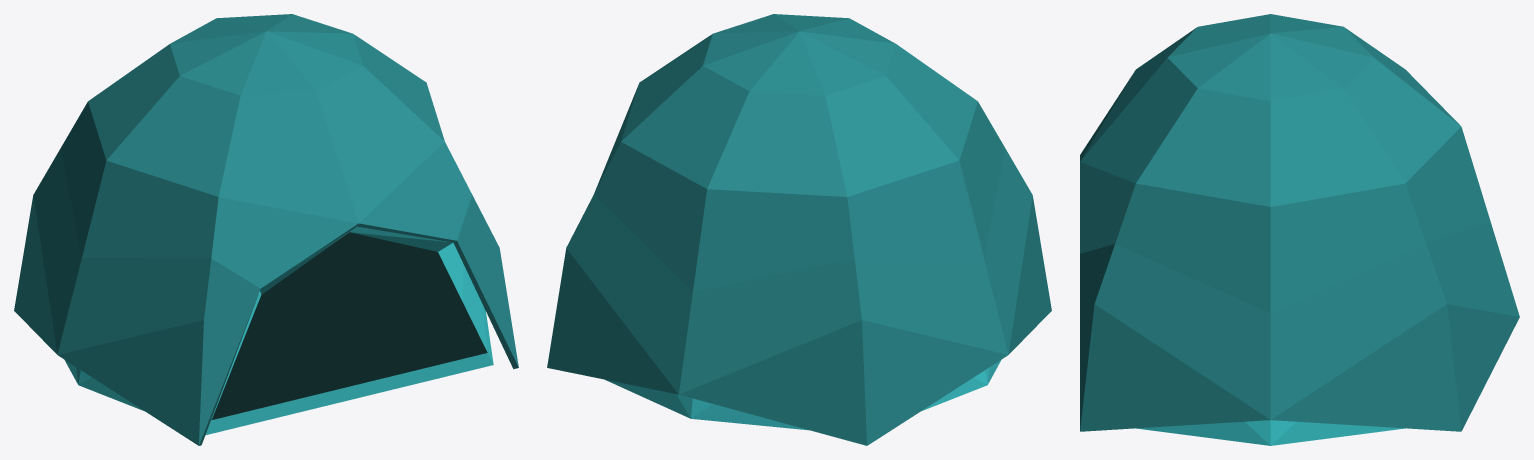
Rendered from Tent_2_Blue.fbx.
The picture shows the model from 3 angles, left to right: view 1: azimuth 30°, elevation 25°; view 2: azimuth 150°, elevation 25°; view 3: azimuth 270°, elevation 25°; orthographic projection. The views are drawn at different scales.
Parts seen in each view (by area): view 1: Tent_2_Blue; view 2: Tent_2_Blue; view 3: Tent_2_Blue.
Boxes of the visible parts, box(x1,y1,x2,y2) form: Tent_2_Blue: box(14, 14, 518, 445); Tent_2_Blue: box(547, 14, 1051, 445); Tent_2_Blue: box(1080, 14, 1519, 445).
Size of the model in its own units: 259 by 183 by 228.
